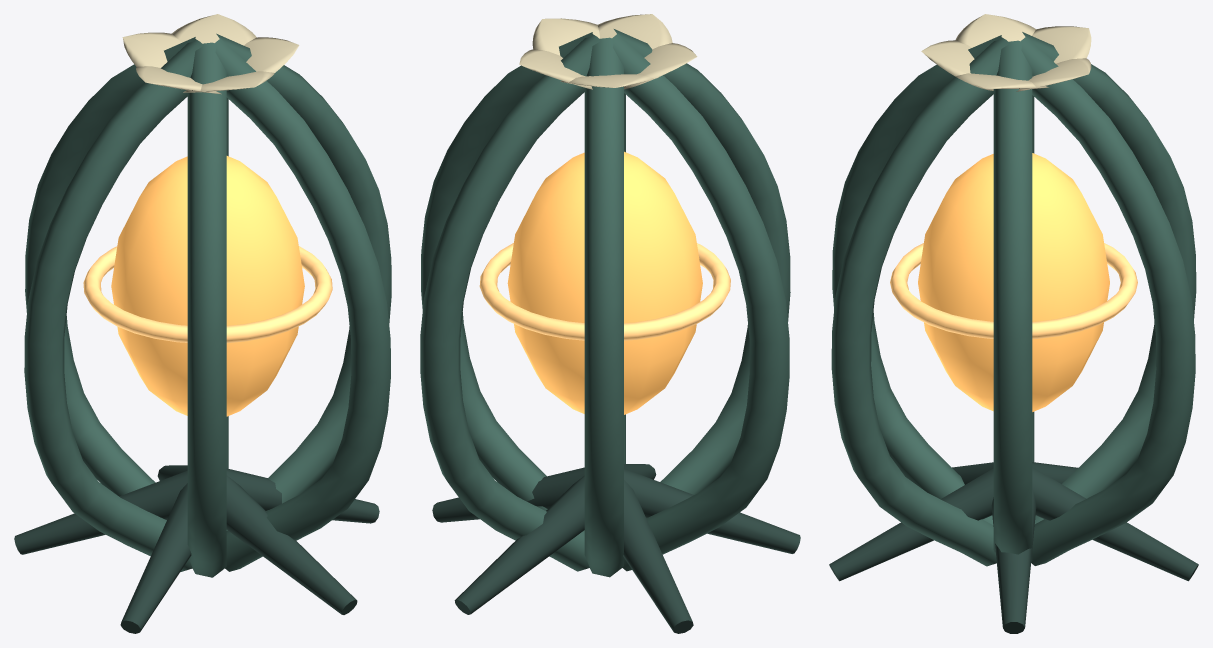
File: heartwood.glb
The picture shows the model from 3 angles, left to right: view 1: azimuth 30°, elevation 25°; view 2: azimuth 150°, elevation 25°; view 3: azimuth 270°, elevation 25°; orthographic projection.
Parts seen in each view (by area): view 1: Vesper / heartwood; view 2: Vesper / heartwood; view 3: Vesper / heartwood.
Boxes of the visible parts, box(x1,y1,x2,y2) form: Vesper / heartwood: box(14, 14, 391, 633); Vesper / heartwood: box(420, 14, 800, 633); Vesper / heartwood: box(829, 14, 1198, 633).
Size of the model in its own units: 1.94 by 2.7 by 1.73.
